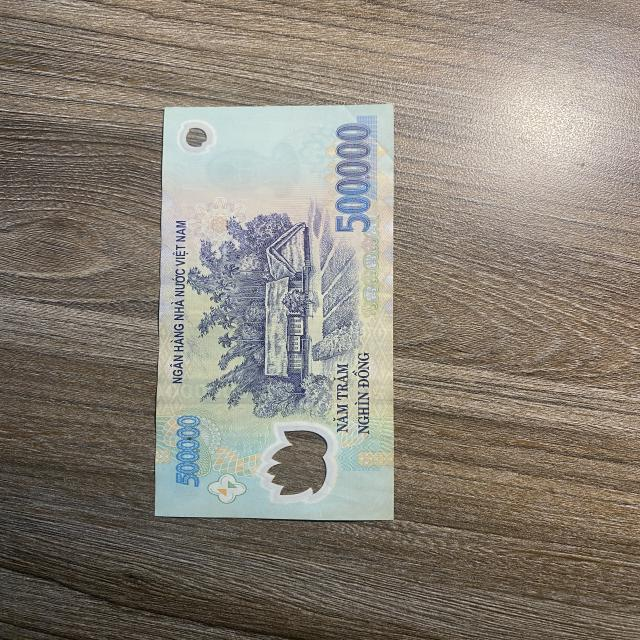500 000 VND: (154, 104, 396, 522)
